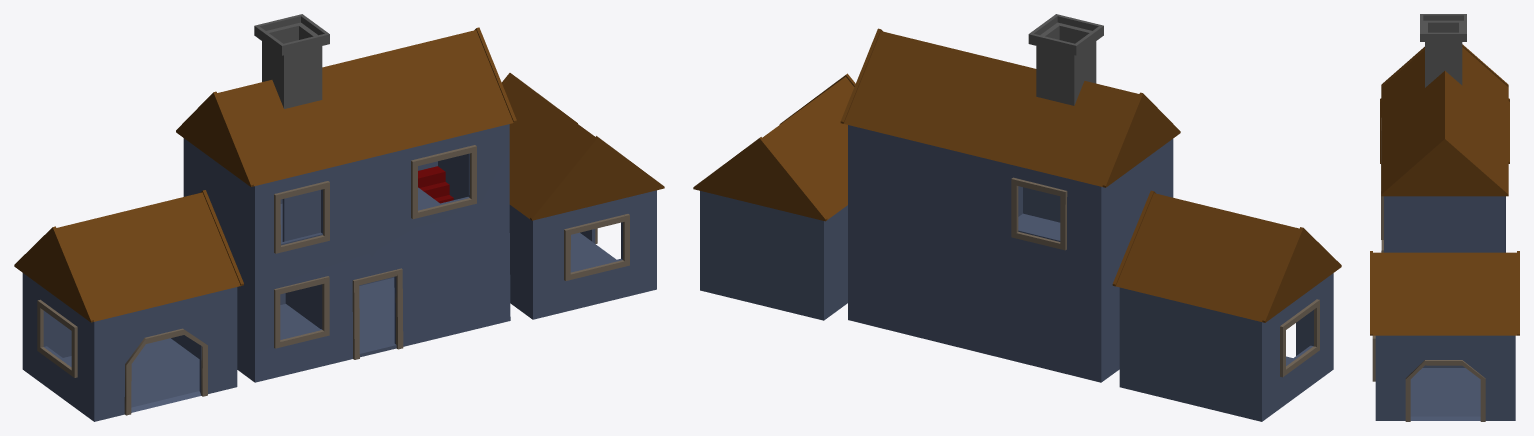
File: house7.fbx
3 renders of one model, left to right at view 1: azimuth 30°, elevation 25°; view 2: azimuth 150°, elevation 25°; view 3: azimuth 270°, elevation 25°, orthographic. The views are drawn at different scales.
Visible parts, largest first — view 1: polySurface58; view 2: polySurface58; view 3: polySurface58.
Part boxes in pixels (bbox=[...]): polySurface58: bbox=[14, 14, 664, 421]; polySurface58: bbox=[693, 14, 1341, 421]; polySurface58: bbox=[1370, 14, 1519, 421].
Size of the model in its own units: 1723 by 897 by 465.
